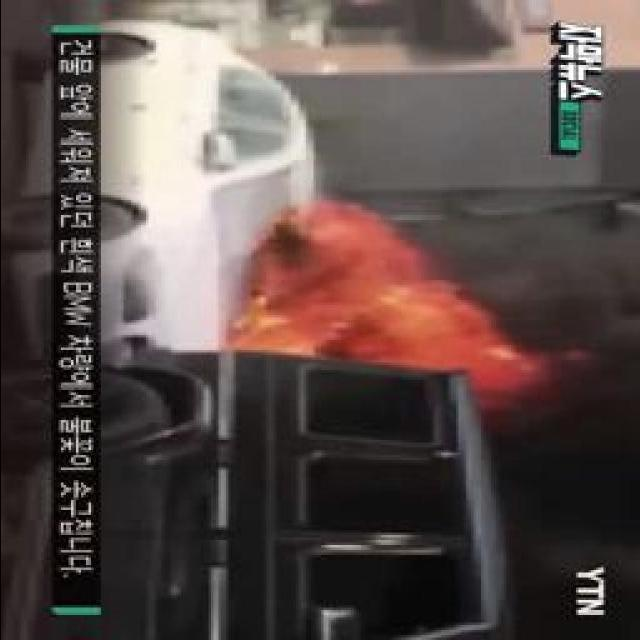Fire: (252, 211, 506, 399)
